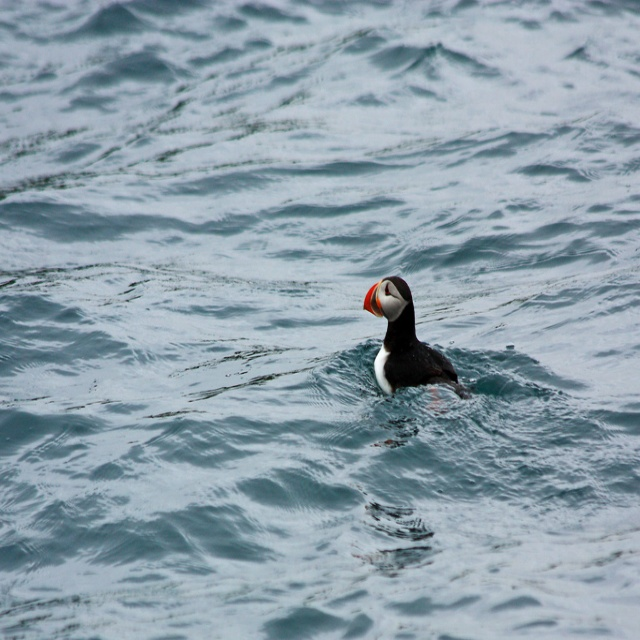Duck: (363, 276, 475, 407)
